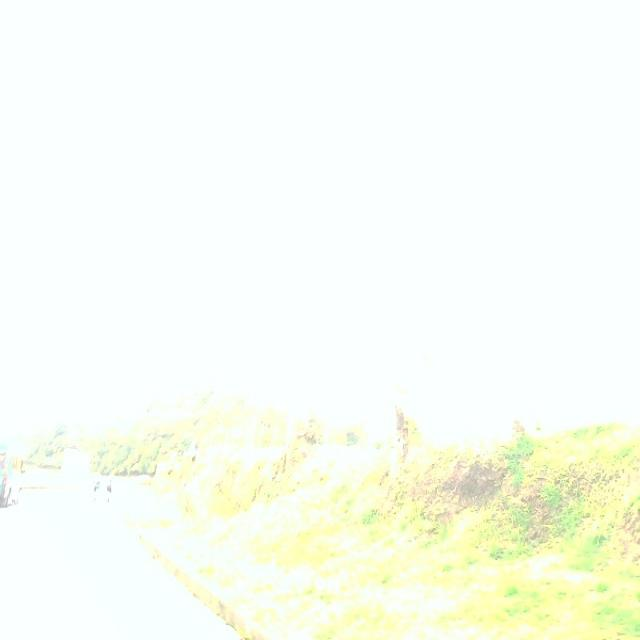DITCH: (4, 389, 638, 639)
